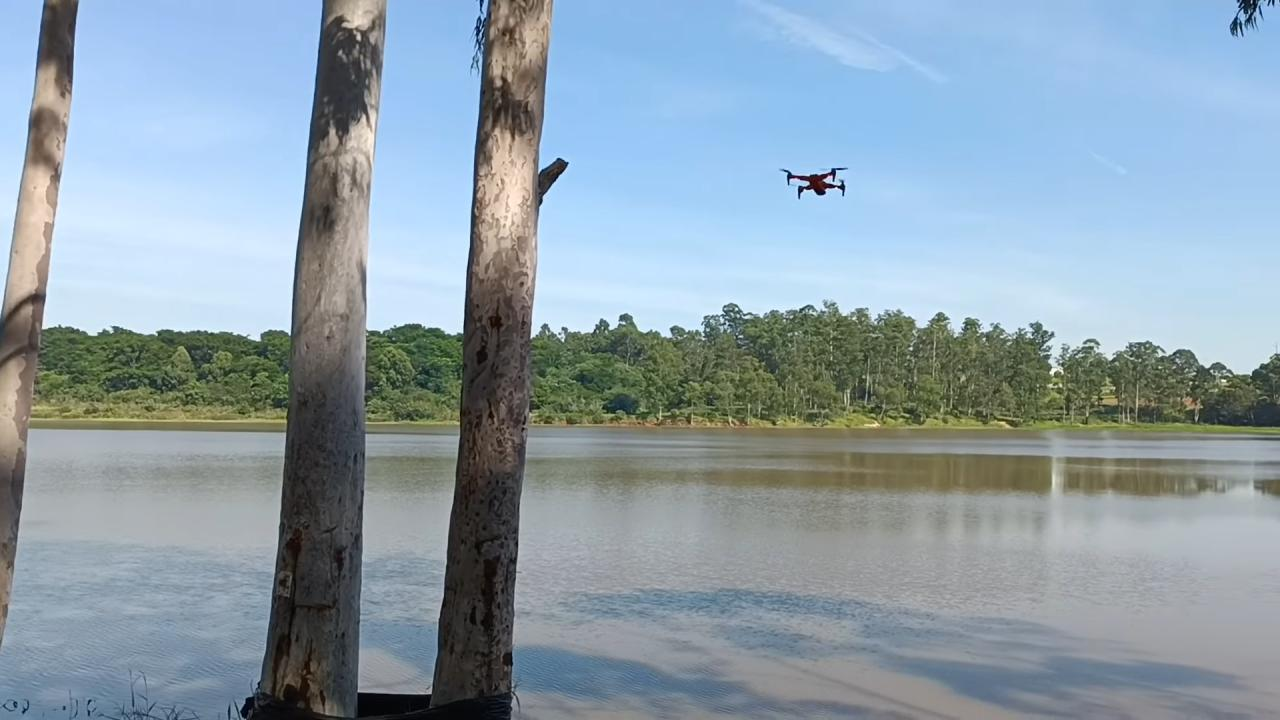Drone: (769, 154, 860, 207)
